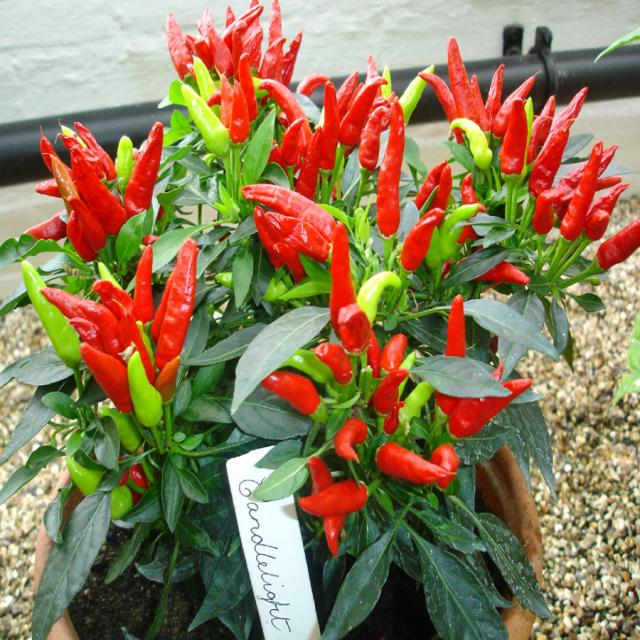chilli: (154, 235, 201, 368), (557, 140, 604, 246), (125, 122, 166, 223), (376, 98, 404, 242), (80, 344, 130, 420), (262, 367, 322, 429), (293, 477, 378, 518), (401, 204, 446, 277), (375, 442, 451, 485), (498, 99, 530, 201), (326, 220, 356, 318), (330, 406, 369, 465), (319, 81, 341, 185), (373, 367, 410, 425), (442, 290, 472, 357), (320, 341, 352, 396), (165, 13, 189, 75), (230, 78, 250, 152)
